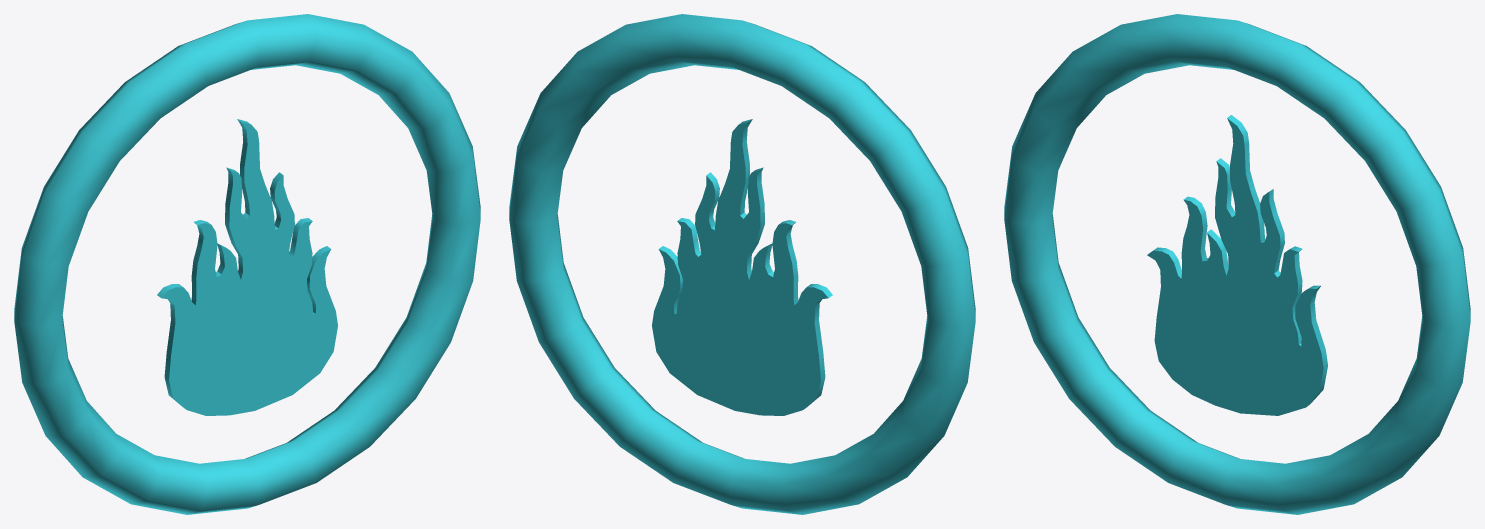
The model's file is fire.FBX.
3 renders of one model, left to right at view 1: azimuth 30°, elevation 25°; view 2: azimuth 150°, elevation 25°; view 3: azimuth 330°, elevation 25°, orthographic.
Visible parts, largest first — view 1: cerc, flame; view 2: cerc, flame; view 3: cerc, flame.
Part boxes in pixels (x1,y1,x2,y2): cerc: [14, 14, 480, 514]; flame: [157, 119, 337, 415]; cerc: [509, 14, 975, 514]; flame: [652, 119, 832, 415]; cerc: [1004, 14, 1470, 514]; flame: [1147, 115, 1327, 415].
Bounding box in the file's own units: 137 × 137 × 12.12.
